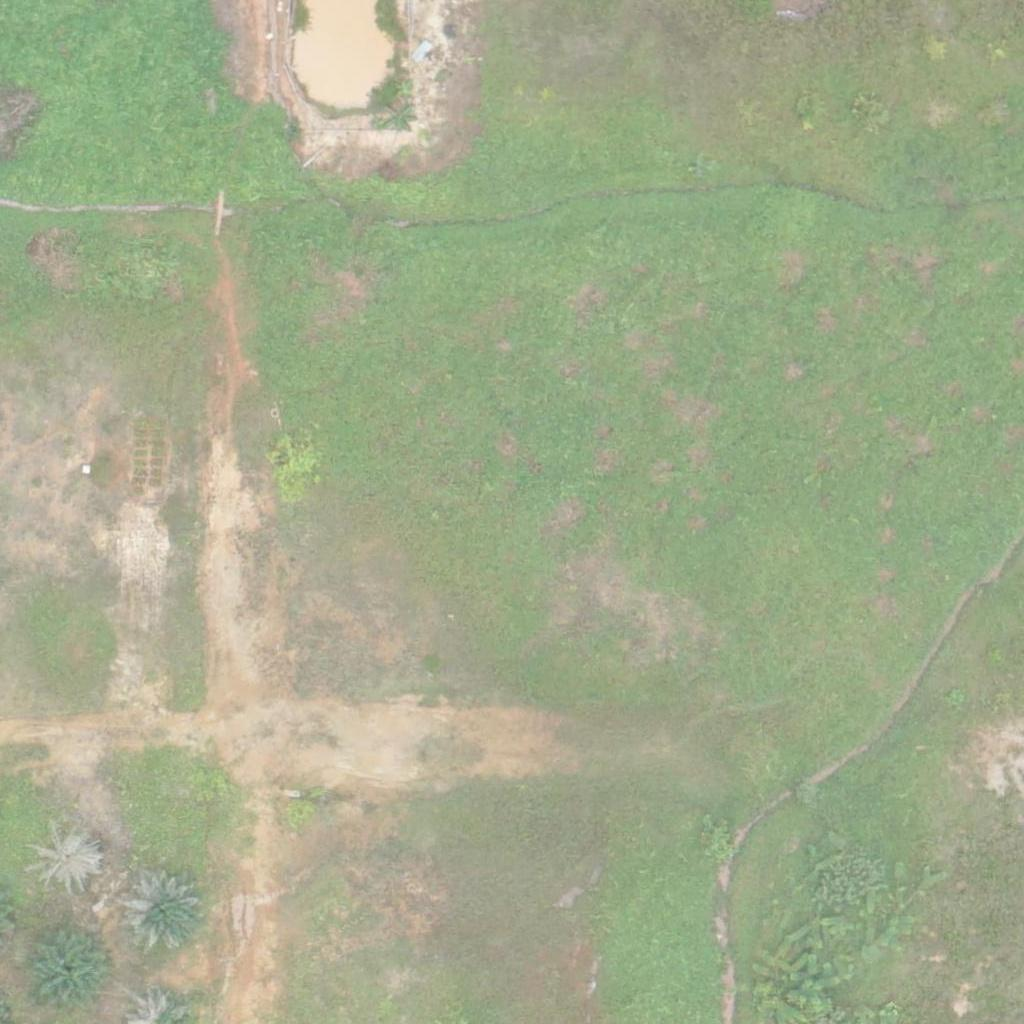Kelapa_Sawit: (21, 921, 121, 1021), (117, 869, 205, 957), (28, 820, 103, 896)
